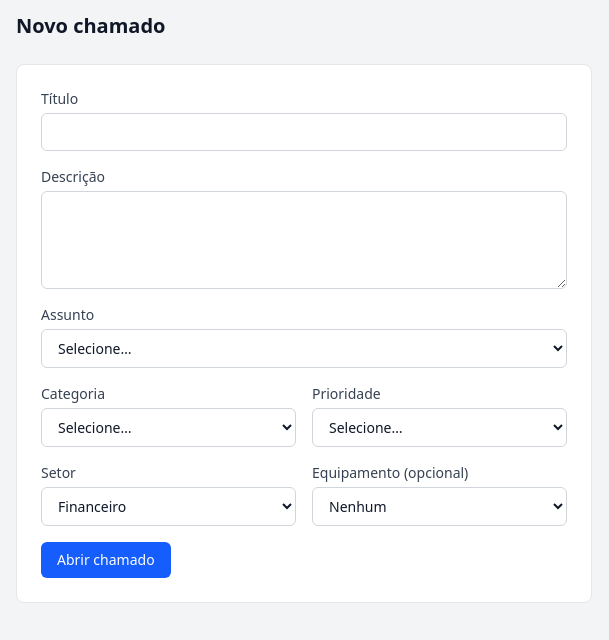
Test: NovoTicket: assunto › ao escolher o assunto, a prioridade vem dele e o campo trava
Select "Acessos — Novo acesso" in the dropdown labelled "Assunto": (304, 348) x1=41 y1=329 x2=567 y2=368
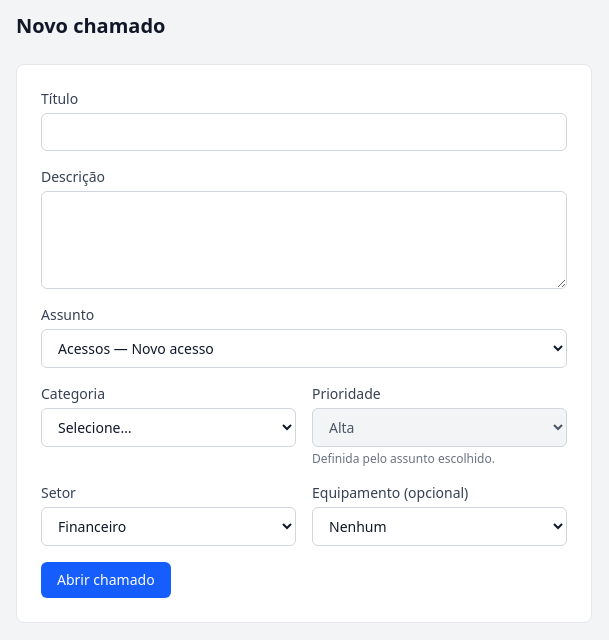
Now the dropdown labelled "Prioridade" shows "Alta", box x1=312 y1=408 x2=567 y2=447
Now the dropdown labelled "Prioridade" is disabled, box x1=312 y1=408 x2=567 y2=447
